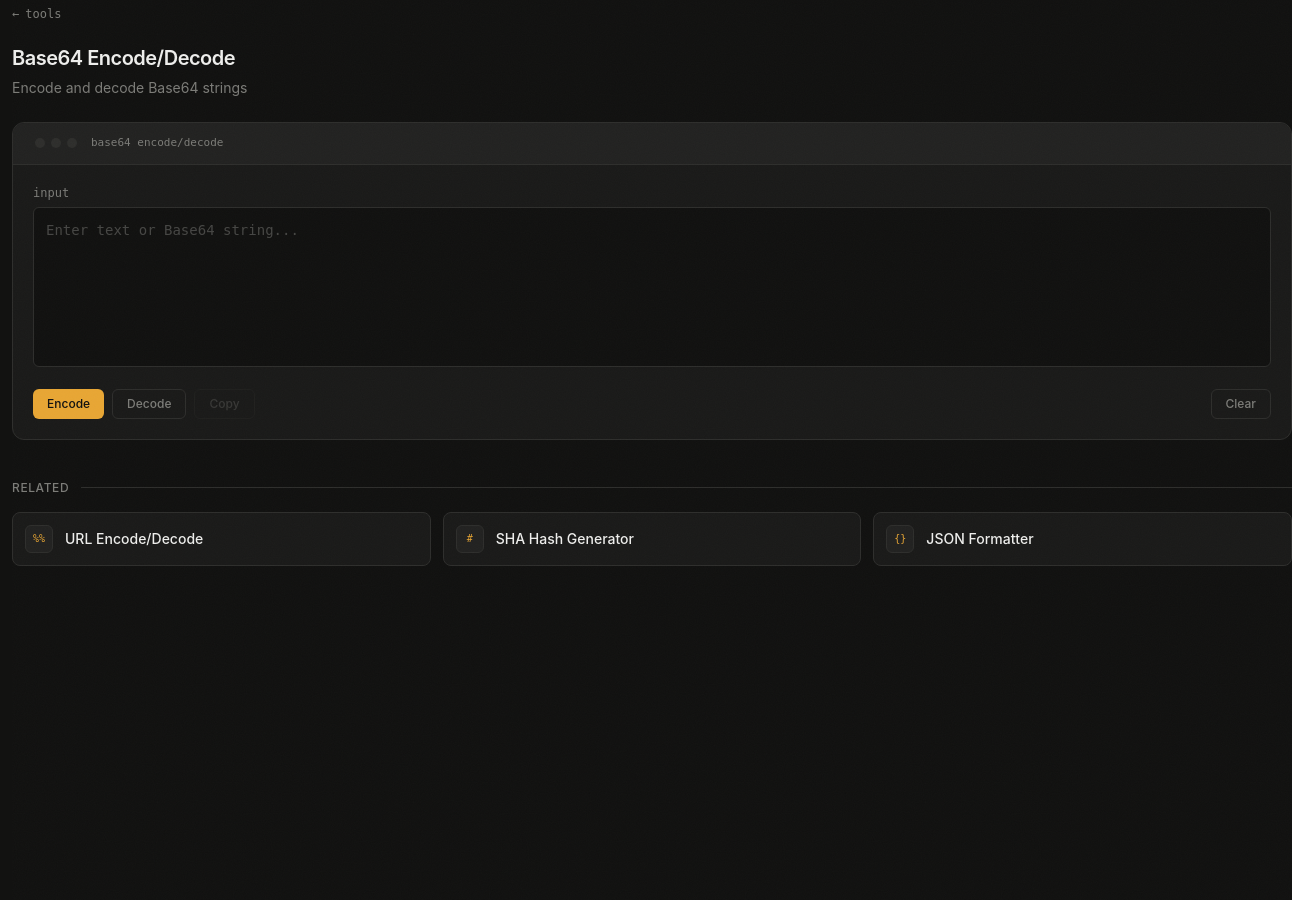
Test: Base64 Encode/Decode › decodes Base64 to text
Type "SGVsbG8sIFdvcmxkIQ==" into the text box with placeholder "Enter text or Base64 string..." at (652, 286), box left=33, top=206, right=1271, bottom=366
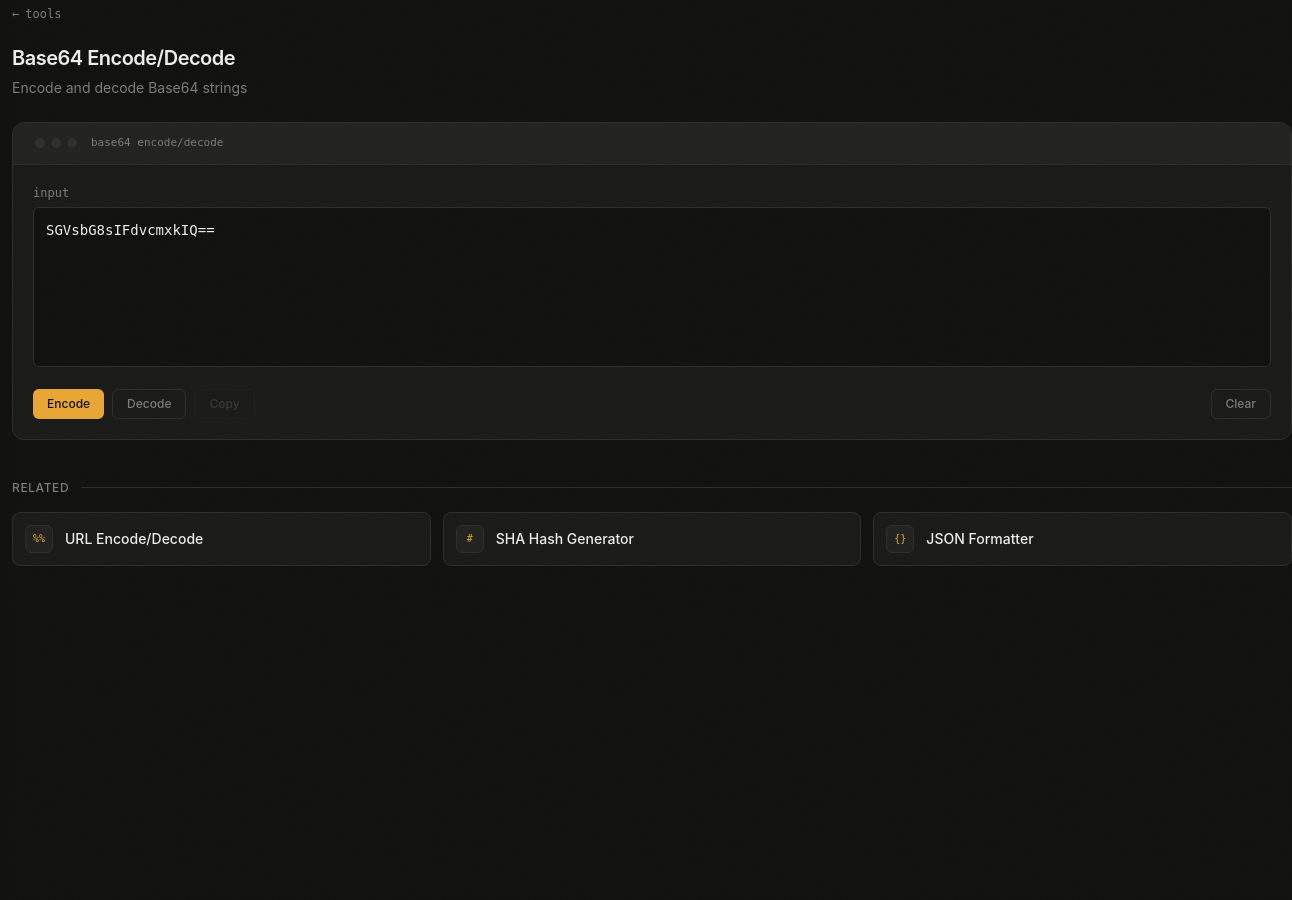
Click the button "Decode" at (149, 404), box left=112, top=388, right=186, bottom=418
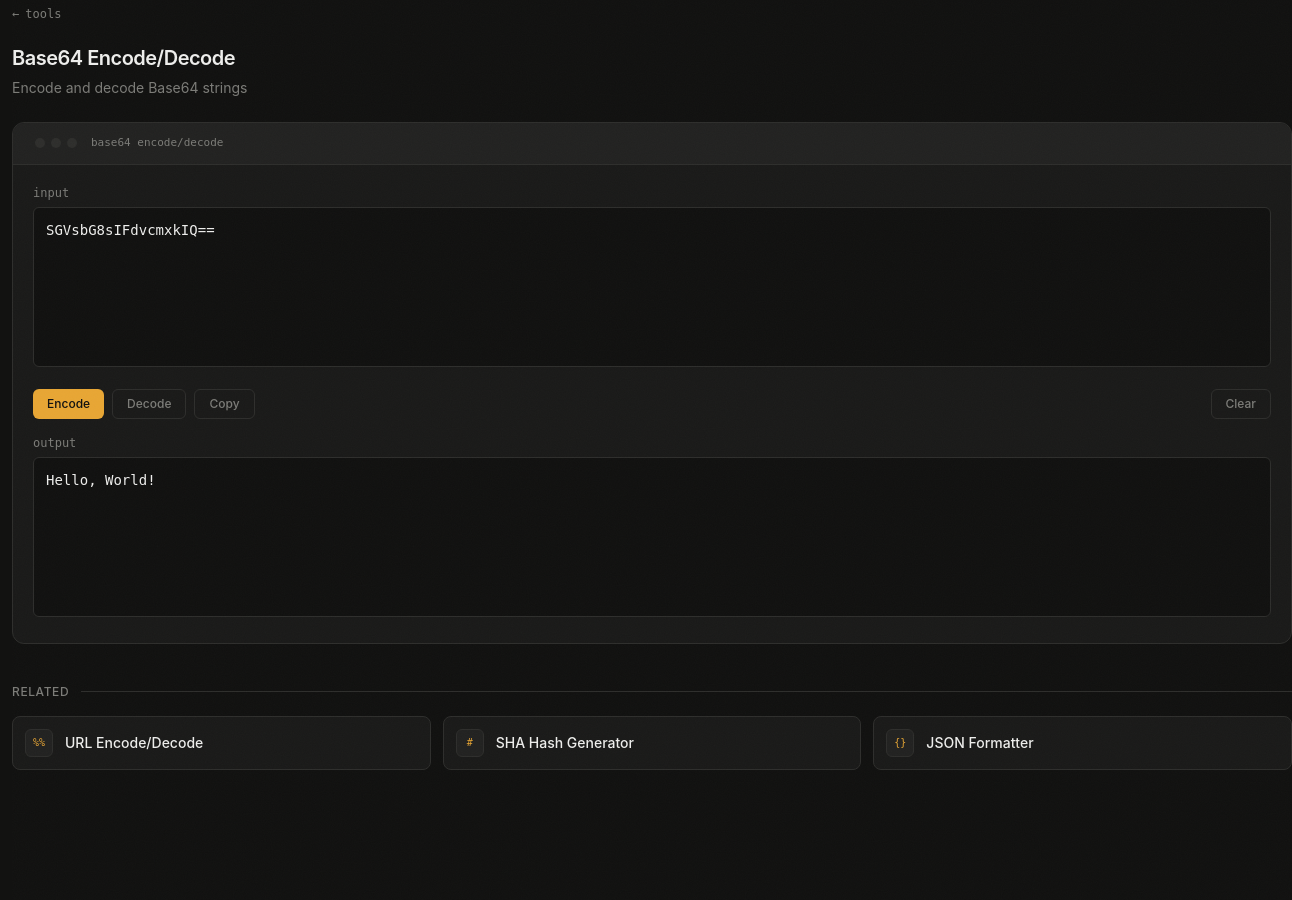
Expected: the text box showing "Hello, World!" below "output" is shown, left=33, top=456, right=1271, bottom=616
